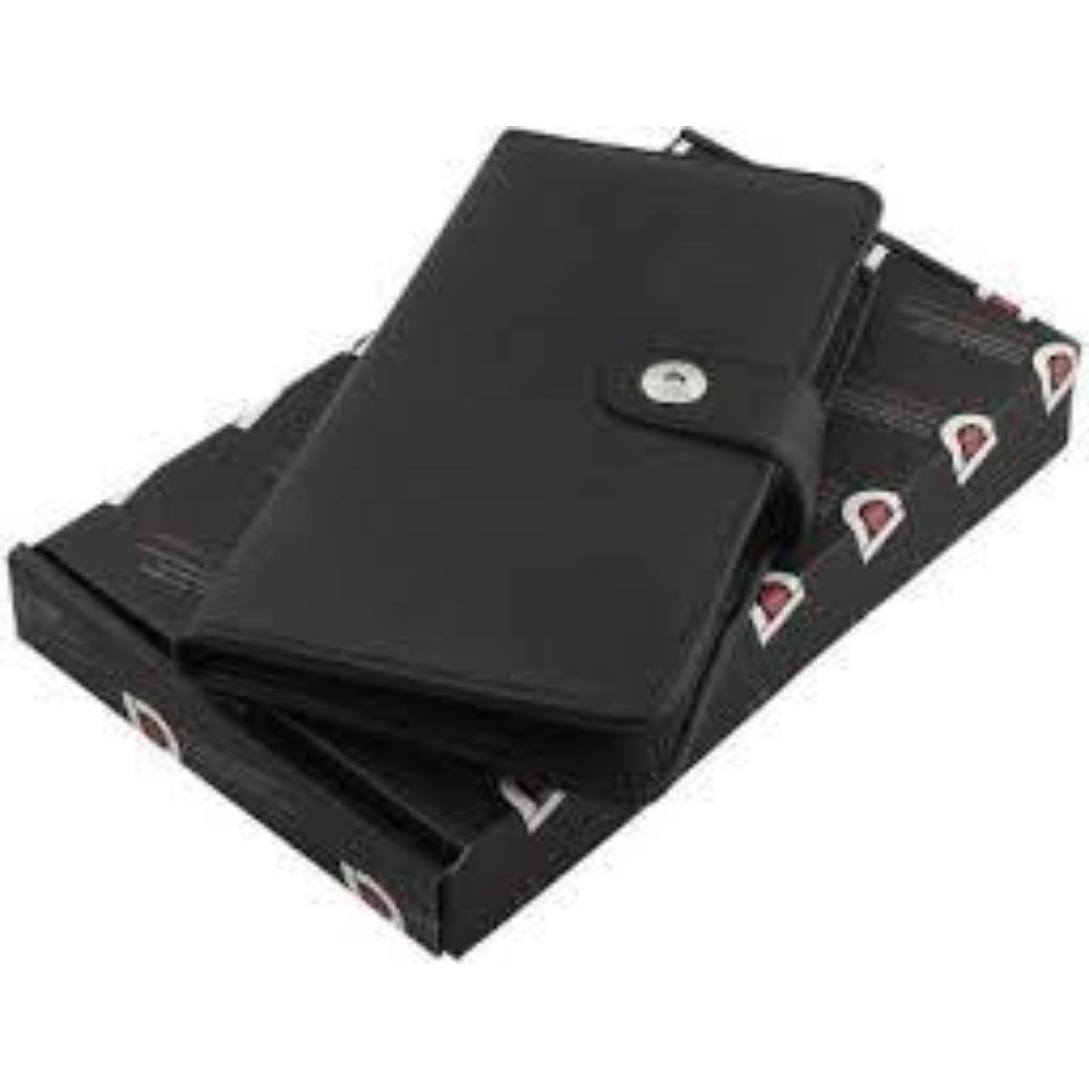wallet: (172, 126, 917, 798)
